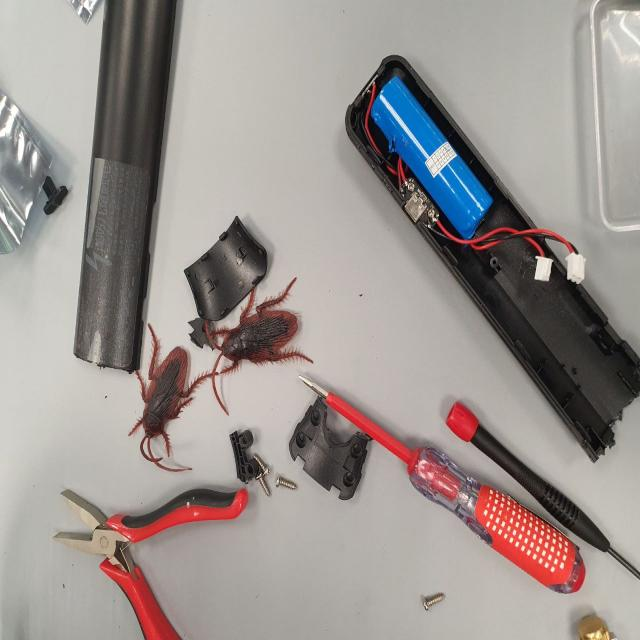Cockroach: (201, 275, 315, 395), (122, 327, 210, 477)
